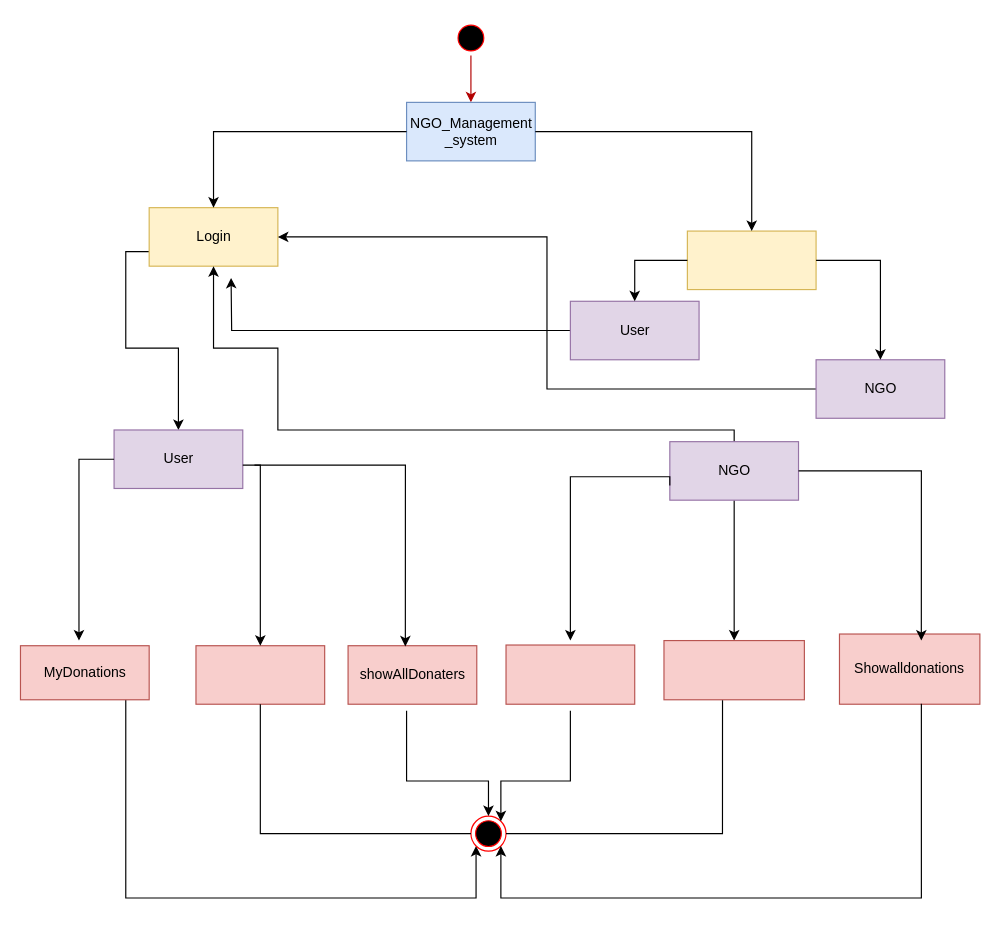
This 1000x928 diagram has some shape labels left out. Here are the shapes that lost their labels. From the top down, the centre of each, then its label:
the point at 751,260: Register
the point at 260,674: ShowProjects
the point at 570,674: MyProjects
the point at 733,669: CreateProjects
